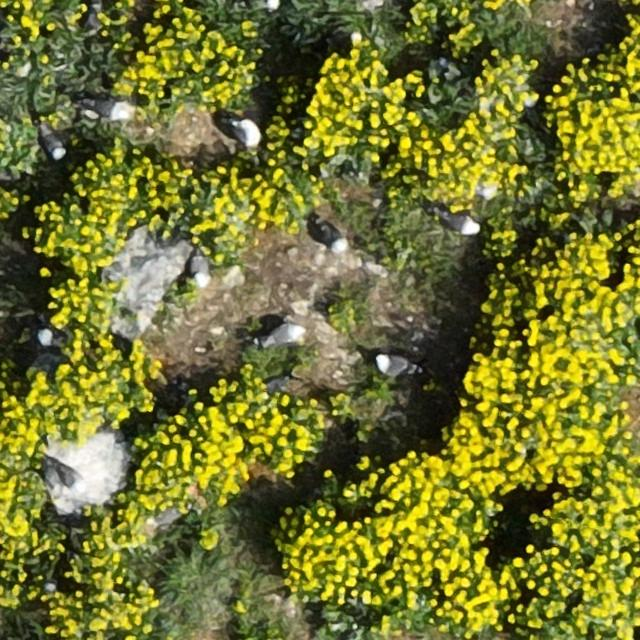umineko: (318, 222, 348, 252), (81, 98, 126, 118), (262, 324, 301, 345), (440, 213, 477, 234), (376, 356, 414, 376), (233, 119, 260, 147), (56, 465, 84, 491), (31, 327, 64, 349), (43, 128, 66, 158), (191, 254, 209, 286)
